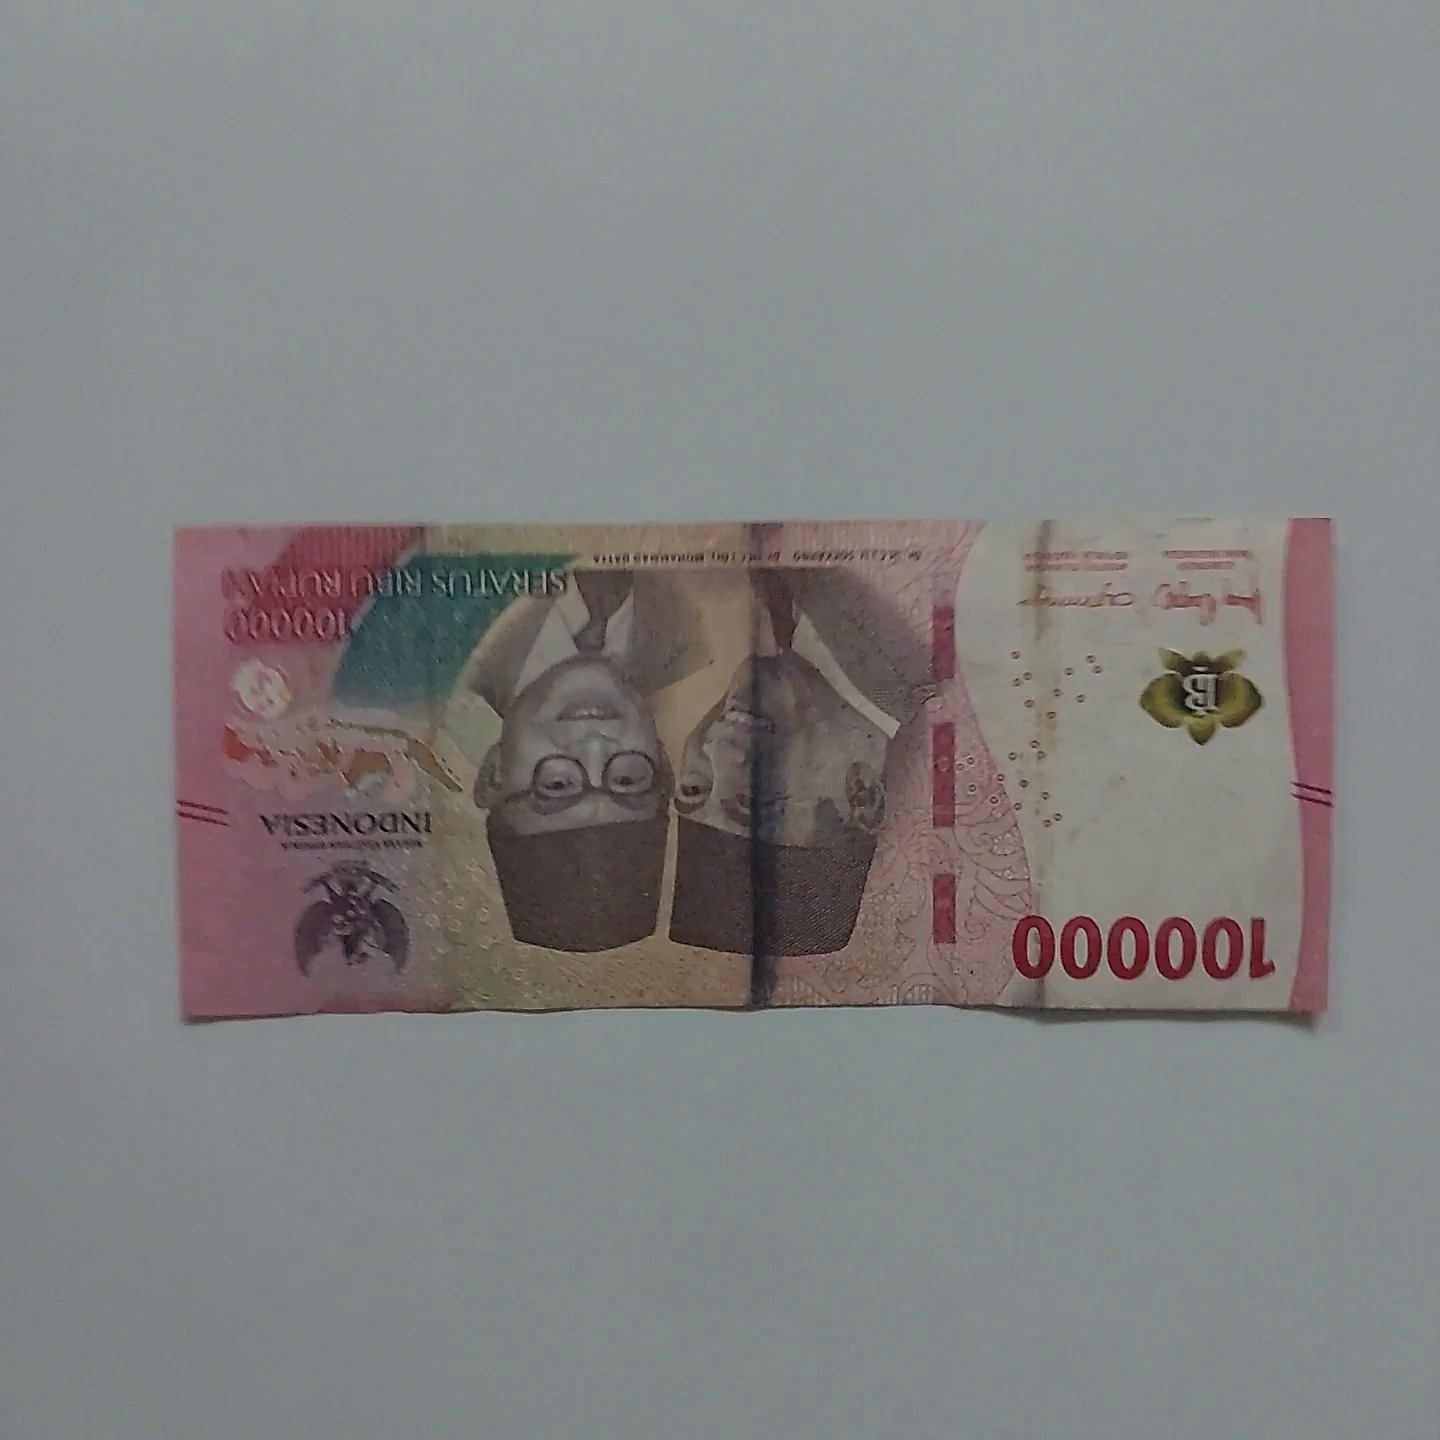100k: (174, 504, 1337, 1025)
